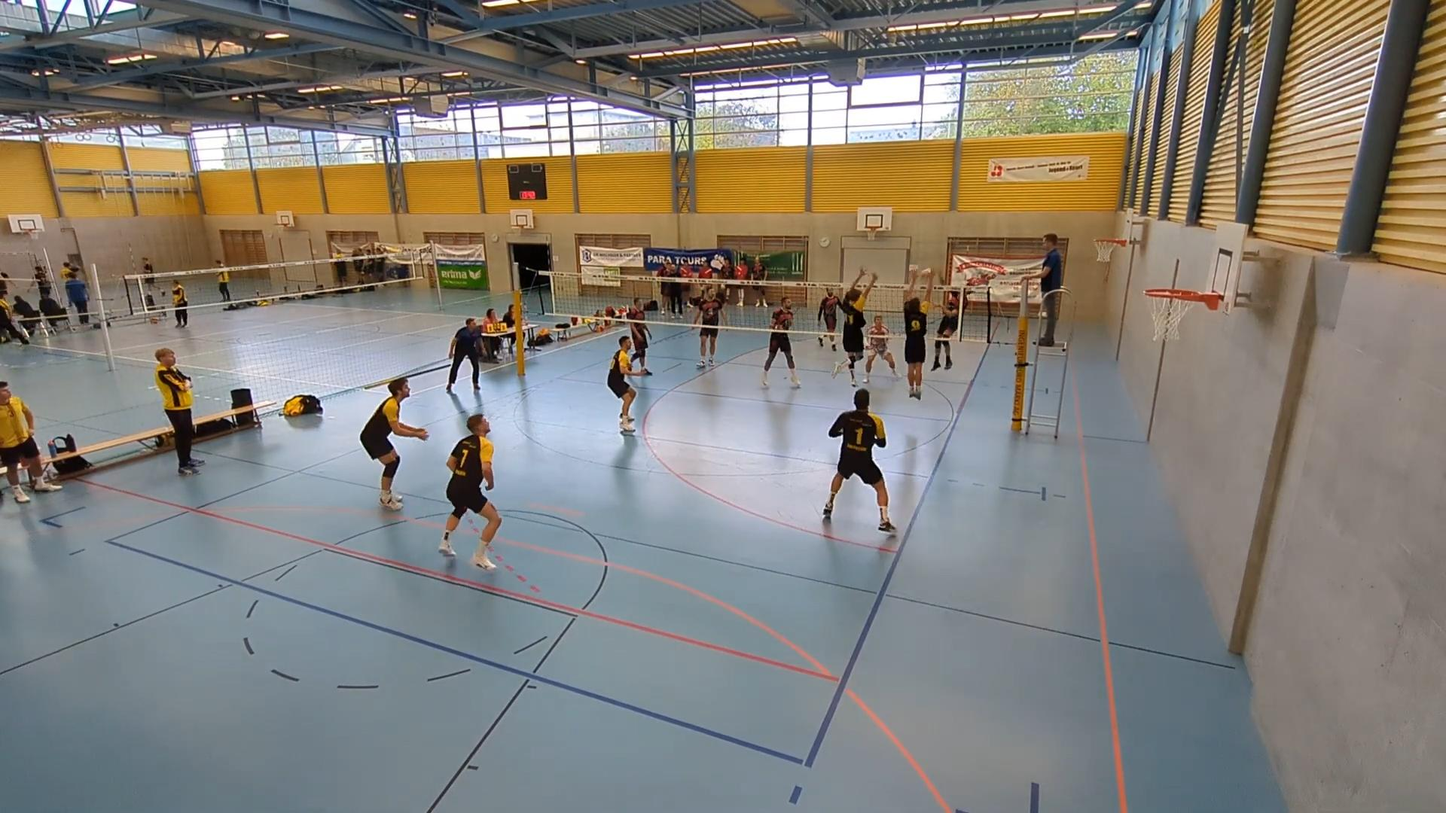Block: (827, 269, 880, 393), (900, 267, 938, 402)
Player: (822, 389, 895, 532), (438, 414, 502, 571), (360, 378, 428, 510), (762, 296, 800, 387), (608, 336, 641, 433), (694, 286, 725, 368), (863, 315, 897, 383), (931, 291, 959, 370), (627, 298, 651, 375), (817, 289, 840, 351)
